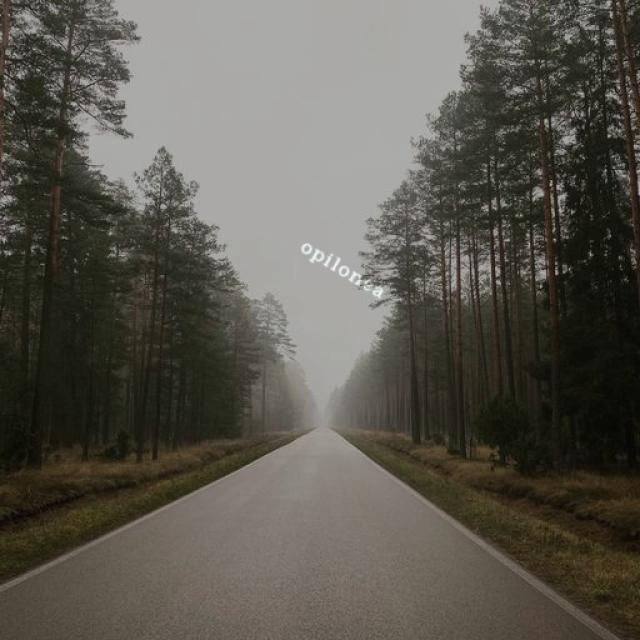watermark: (293, 234, 395, 302)
